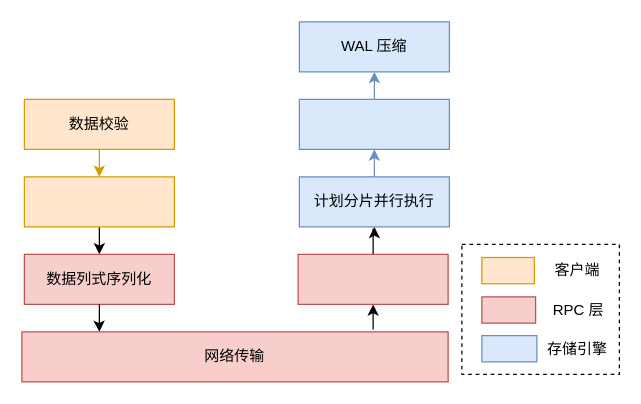
Some shapes in this 641 by 404 pixel diagram are drawn without their labels. The centre of each missing label's shape, as x and y in pixels:
单计划分片批量化执行: the point at 373,123
数据反序列化: the point at 372,278
时间序列 ID 校验与内存开销计算: the point at 98,201
